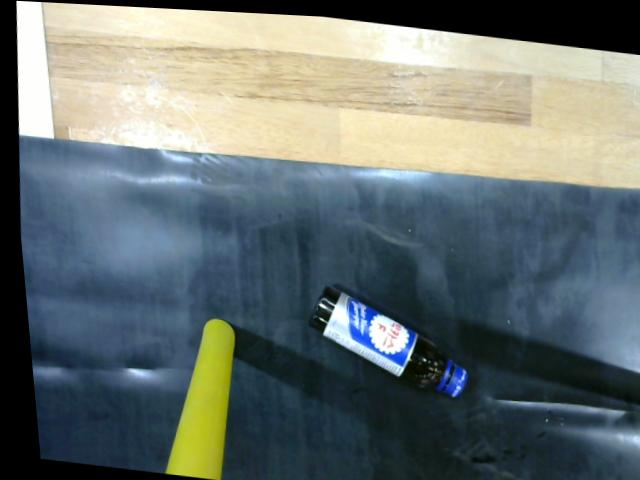glass: (297, 277, 469, 405)
